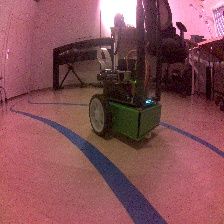rob: (87, 57, 161, 142)
